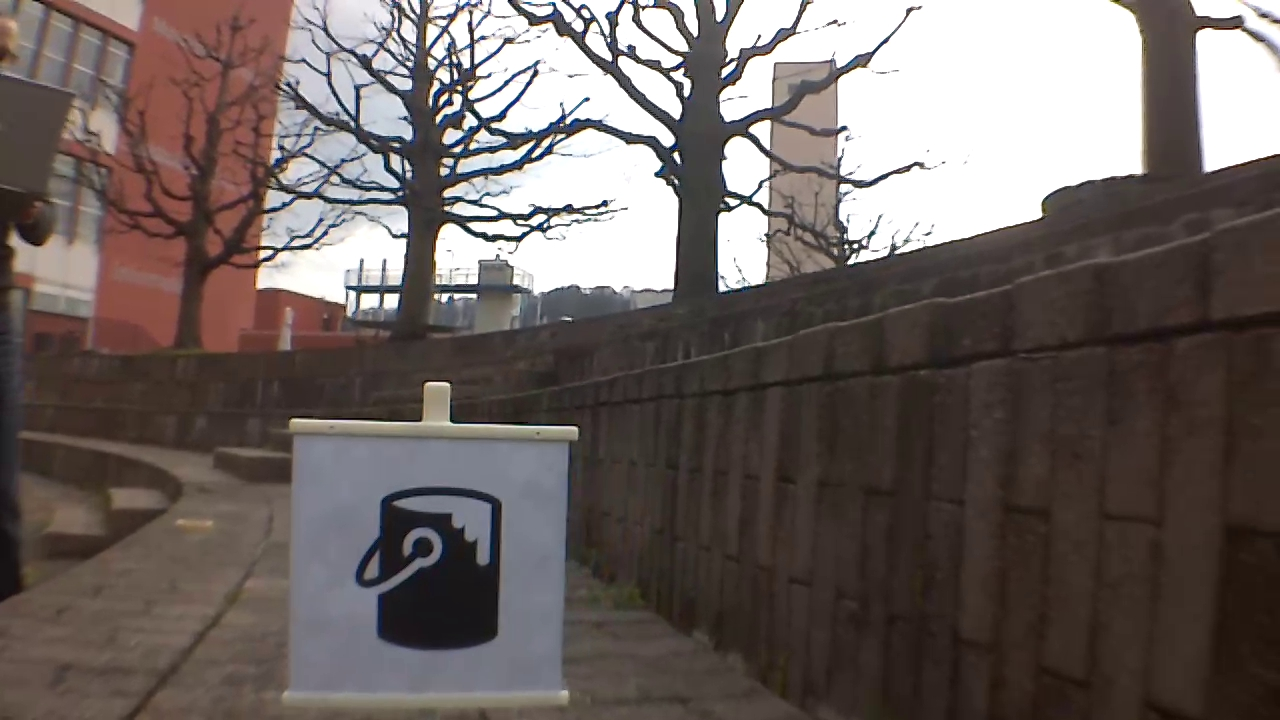bucket: (353, 489, 510, 648)
